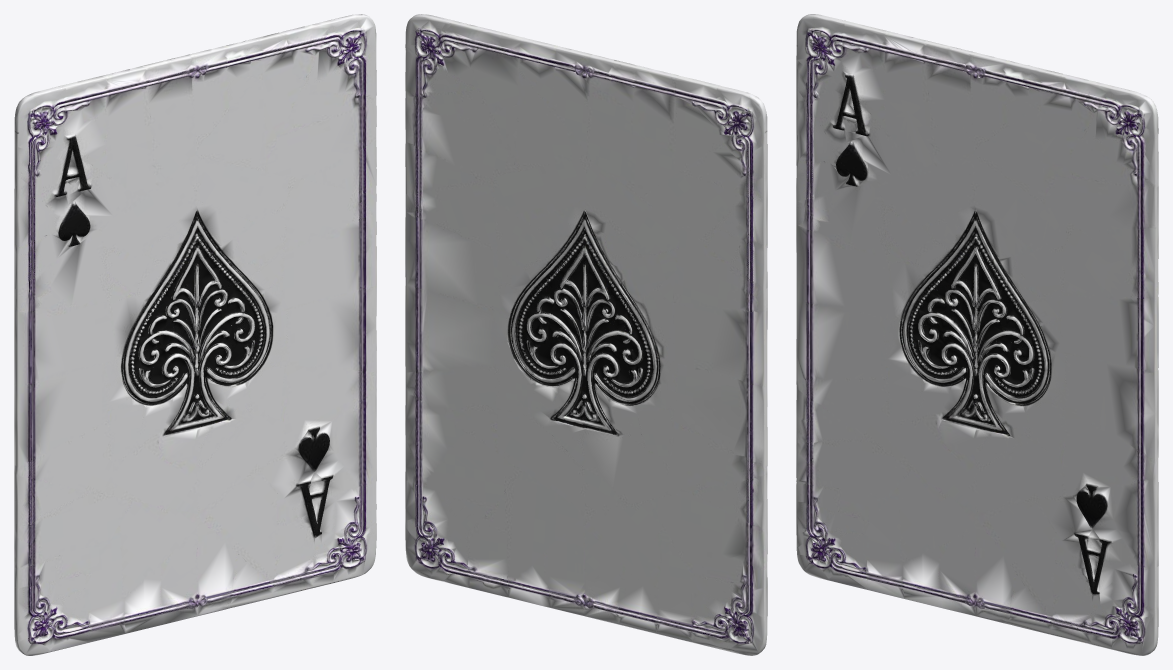
Rendered from ace_of_spades.glb.
The picture shows the model from 3 angles, left to right: view 1: azimuth 30°, elevation 25°; view 2: azimuth 150°, elevation 25°; view 3: azimuth 330°, elevation 25°; orthographic projection.
Size of the model in its own units: 1.28 by 1.9 by 0.0344.
Materials: 1 (1 with a texture image).
